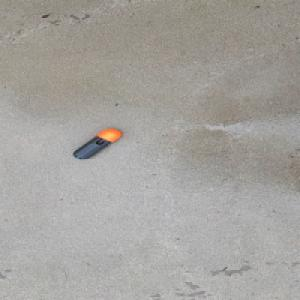PlasticPart: (72, 128, 122, 159)
